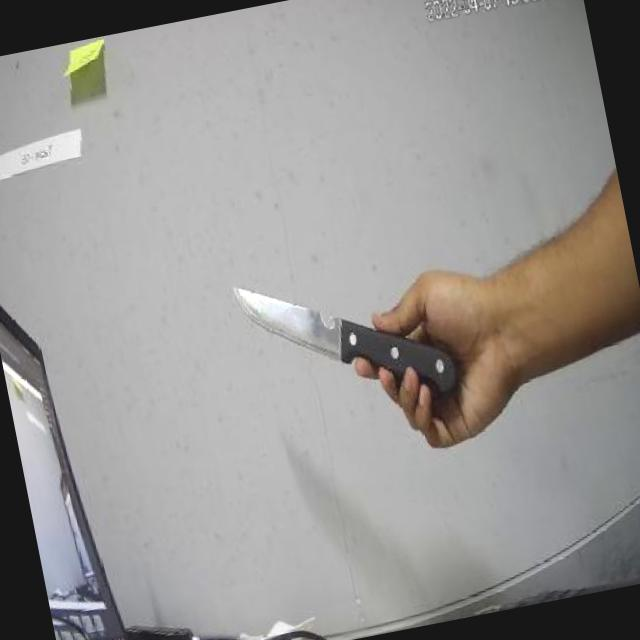knife: (230, 233, 466, 428)
